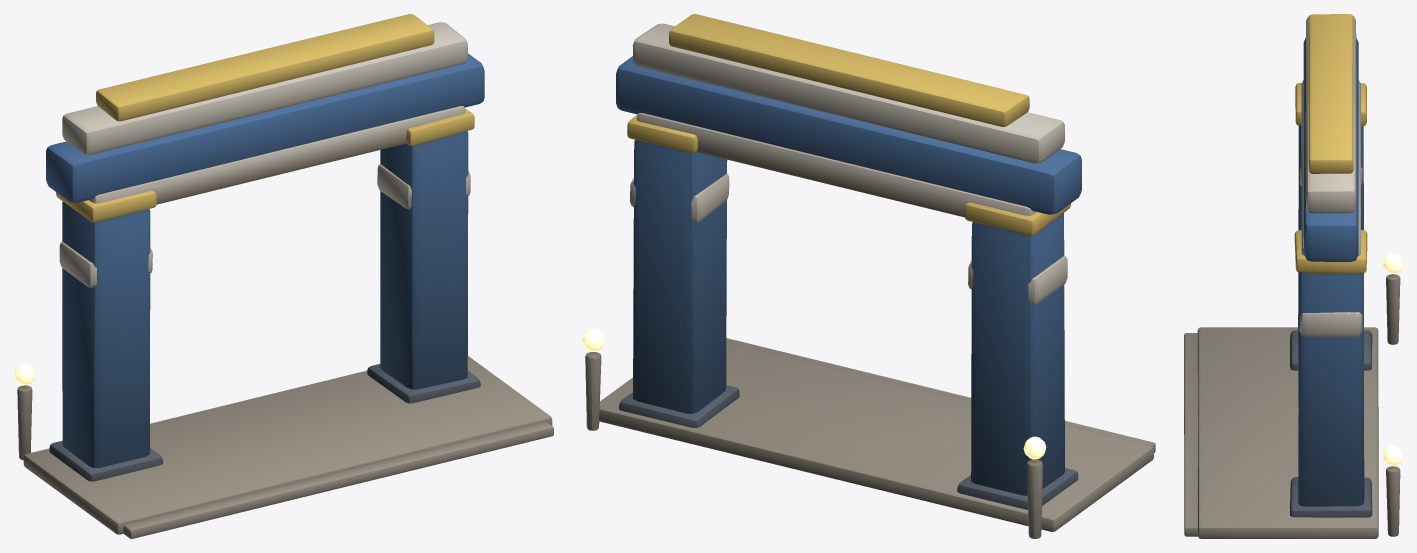
3 renders of one model, left to right at view 1: azimuth 30°, elevation 25°; view 2: azimuth 150°, elevation 25°; view 3: azimuth 270°, elevation 25°, orthographic. The views are drawn at different scales.
Visible parts, largest first — view 1: gate_c3eb1e3f; view 2: gate_c3eb1e3f; view 3: gate_c3eb1e3f.
Part boxes in pixels (x1,y1,x2,y2): gate_c3eb1e3f: (14,14,553,538); gate_c3eb1e3f: (582,14,1155,538); gate_c3eb1e3f: (1184,14,1402,538).
Bounding box in the file's own units: 5.55 × 4.54 × 2.54.
